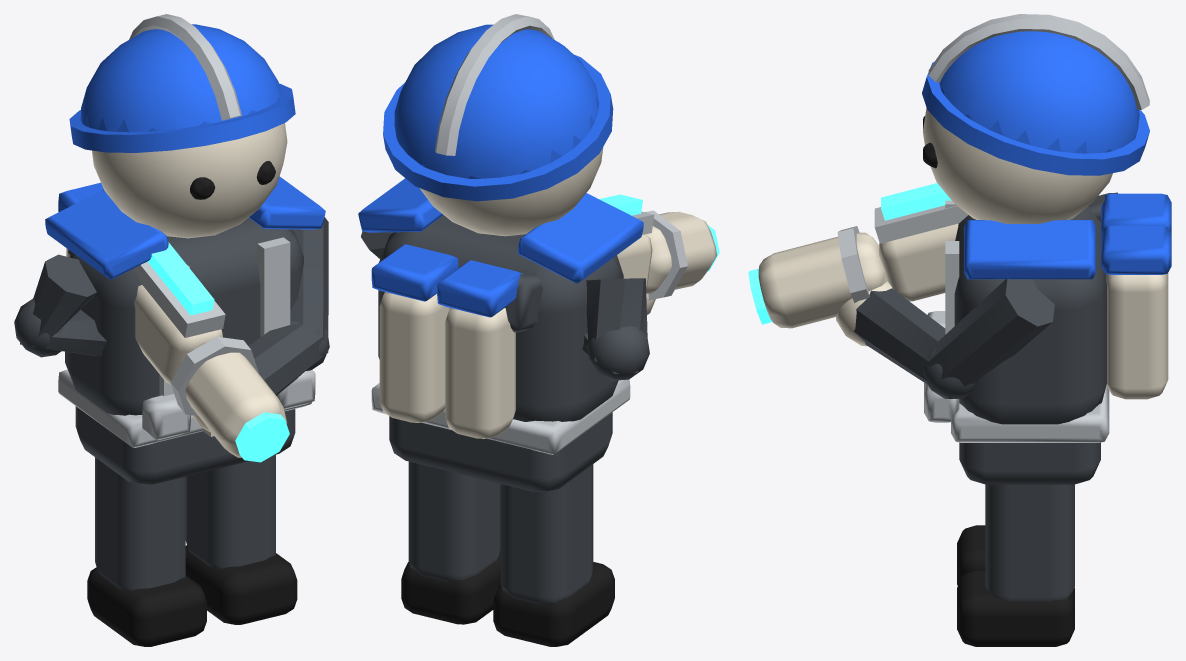
The model's file is laser_trooper.glb.
The picture shows the model from 3 angles, left to right: view 1: azimuth 30°, elevation 25°; view 2: azimuth 150°, elevation 25°; view 3: azimuth 270°, elevation 25°; orthographic projection.
Parts seen in each view (by area): view 1: head__M_Team, turret__M_SmokePlastic, head__M_CreamPlastic, arms__M_SmokePlastic, leg_r__M_SmokePlastic, barrel__M_CreamPlastic, leg_l__M_SmokePlastic, turret__M_Team, leg_r__M_Licorice, hips__M_SmokePlastic, turret__M_Foil, leg_l__M_Licorice (+7 smaller); view 2: head__M_Team, pack__M_CreamPlastic, turret__M_SmokePlastic, leg_r__M_SmokePlastic, leg_l__M_SmokePlastic, turret__M_Team, hips__M_SmokePlastic, pack__M_Team, arms__M_SmokePlastic, leg_r__M_Licorice, head__M_CreamPlastic, barrel__M_CreamPlastic (+6 smaller); view 3: head__M_Team, turret__M_SmokePlastic, arms__M_SmokePlastic, barrel__M_CreamPlastic, leg_l__M_SmokePlastic, head__M_CreamPlastic, turret__M_Team, pack__M_CreamPlastic, leg_l__M_Licorice, pack__M_Team, hips__M_SmokePlastic, head__M_Foil (+6 smaller).
Part boxes in pixels (bbox=[...]): head__M_Team: bbox=[69, 24, 295, 152]; turret__M_SmokePlastic: bbox=[65, 217, 303, 415]; head__M_CreamPlastic: bbox=[92, 123, 287, 238]; arms__M_SmokePlastic: bbox=[14, 217, 329, 395]; leg_r__M_SmokePlastic: bbox=[95, 457, 185, 590]; barrel__M_CreamPlastic: bbox=[134, 285, 287, 457]; leg_l__M_SmokePlastic: bbox=[185, 454, 275, 568]; turret__M_Team: bbox=[45, 176, 325, 279]; leg_r__M_Licorice: bbox=[87, 567, 206, 646]; hips__M_SmokePlastic: bbox=[75, 406, 295, 484]; turret__M_Foil: bbox=[142, 237, 315, 440]; leg_l__M_Licorice: bbox=[185, 545, 297, 624]; head__M_Team: bbox=[383, 24, 613, 201]; pack__M_CreamPlastic: bbox=[379, 292, 515, 438]; turret__M_SmokePlastic: bbox=[378, 215, 623, 421]; leg_r__M_SmokePlastic: bbox=[501, 464, 593, 604]; leg_l__M_SmokePlastic: bbox=[408, 461, 500, 581]; turret__M_Team: bbox=[358, 178, 643, 283]; hips__M_SmokePlastic: bbox=[389, 412, 612, 491]; pack__M_Team: bbox=[371, 244, 522, 317]; arms__M_SmokePlastic: bbox=[361, 231, 649, 380]; leg_r__M_Licorice: bbox=[493, 562, 614, 646]; head__M_CreamPlastic: bbox=[419, 147, 603, 236]; barrel__M_CreamPlastic: bbox=[617, 211, 716, 293]; head__M_Team: bbox=[922, 31, 1149, 175]; turret__M_SmokePlastic: bbox=[954, 206, 1106, 424]; arms__M_SmokePlastic: bbox=[853, 278, 1054, 398]; barrel__M_CreamPlastic: bbox=[758, 223, 958, 328]; leg_l__M_SmokePlastic: bbox=[985, 484, 1074, 601]; head__M_CreamPlastic: bbox=[923, 108, 1112, 223]; turret__M_Team: bbox=[964, 220, 1096, 279]; pack__M_CreamPlastic: bbox=[1106, 273, 1168, 399]; leg_l__M_Licorice: bbox=[957, 570, 1074, 646]; pack__M_Team: bbox=[1101, 193, 1171, 274]; hips__M_SmokePlastic: bbox=[959, 442, 1100, 484]; head__M_Foil: bbox=[928, 14, 1149, 109].
Bounding box in the file's own units: 0.291 × 0.5578 × 0.359.
